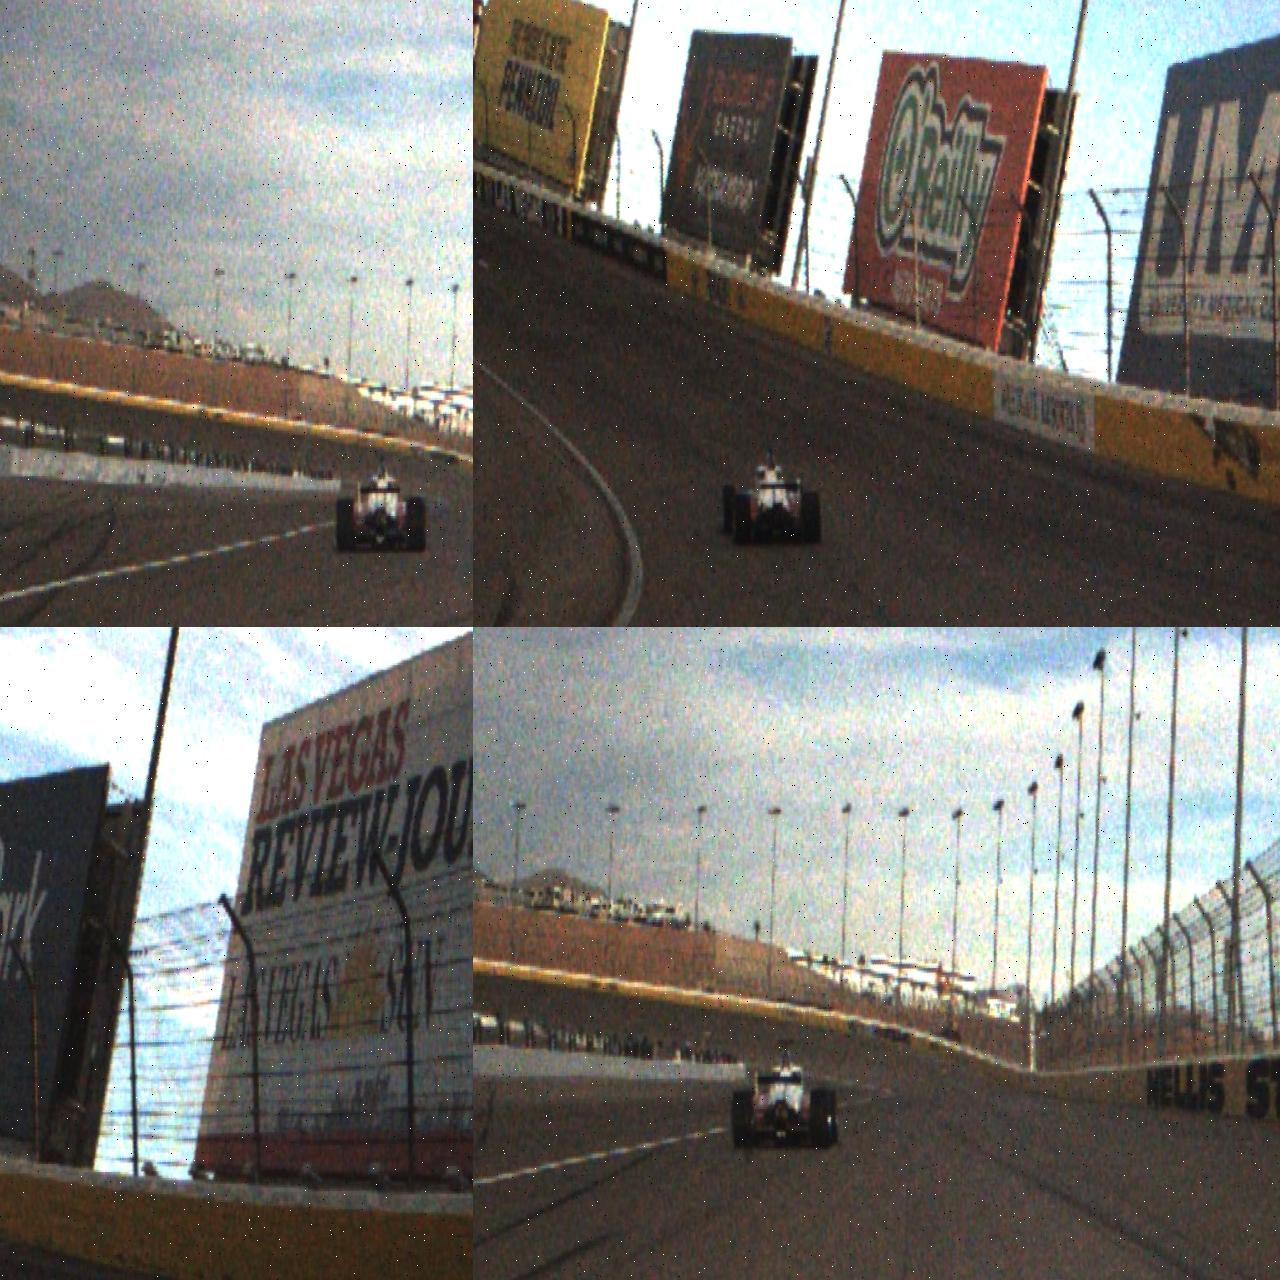AV: (730, 1038, 839, 1150), (720, 442, 822, 547), (335, 448, 428, 554)
Wheel: (810, 1088, 831, 1149), (732, 1092, 754, 1150), (407, 496, 428, 552), (336, 496, 355, 554), (732, 492, 752, 546), (802, 492, 822, 546), (722, 484, 738, 534)
